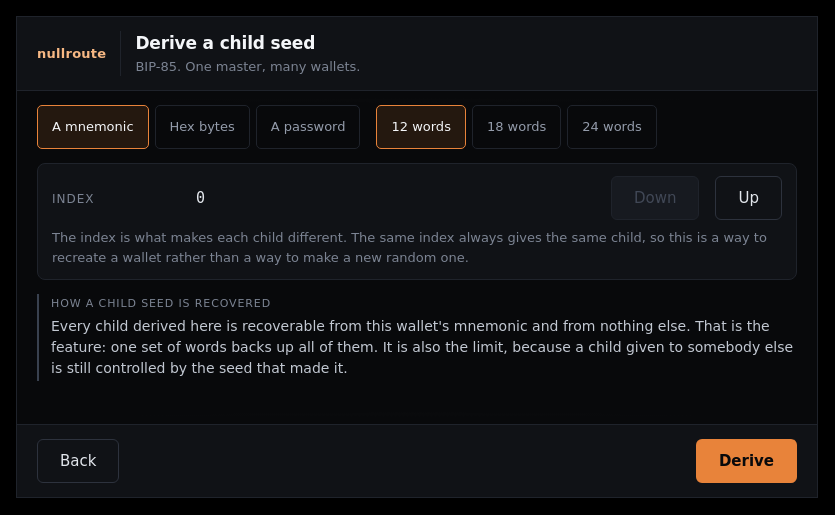
Test: ChildSeedScreen › shows-the-path-beside-the-words
Click the button with test id "child-derive".
click(746, 461)  # box 696,439 -> 797,483
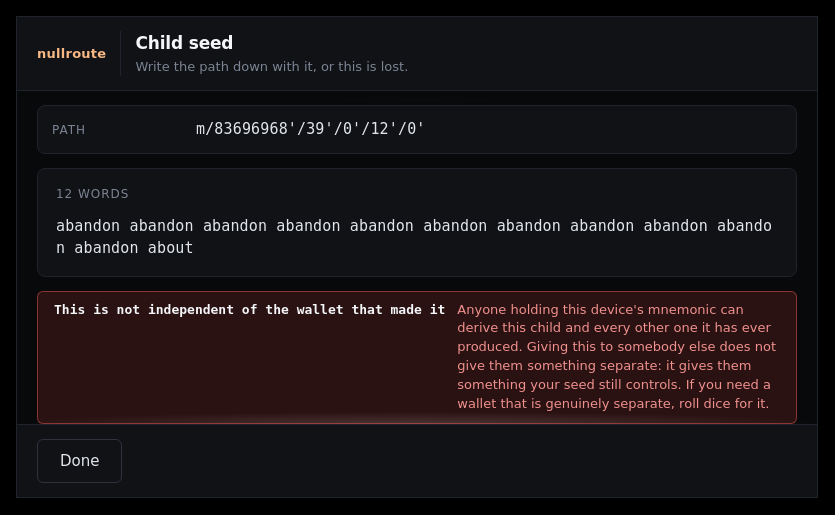
Now the text with test id "child-words" is shown, box 56,214 -> 778,260
Now the text with test id "child-path" reads "m/83696968'/39'/0'/12'/0'", box 196,120 -> 426,138
Now the text with class "nr-screen__subtitle" shows "path", box 135,58 -> 408,74
